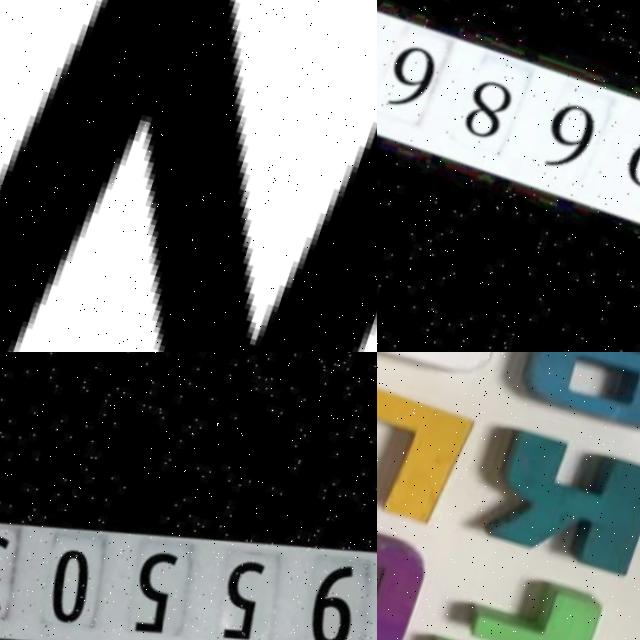0: (30, 534, 122, 640), (602, 108, 640, 226)
3: (0, 518, 41, 632)
5: (111, 535, 213, 640), (200, 544, 299, 640)
6: (518, 78, 628, 200), (377, 21, 466, 138)
8: (443, 56, 540, 166)
9: (284, 546, 377, 640)
F: (426, 552, 613, 640)
G: (377, 504, 432, 640)
K: (478, 427, 640, 579)
L: (377, 367, 485, 527)
N: (0, 0, 377, 352)
P: (513, 352, 640, 437)
